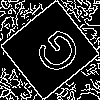G: (25, 24, 85, 85)
